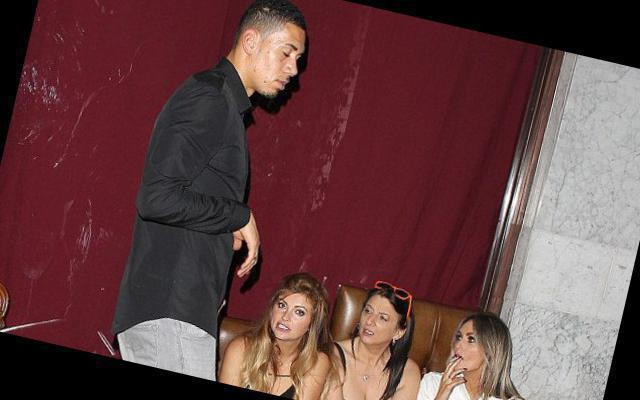Drunk: (272, 21, 304, 100), (271, 294, 313, 341), (358, 296, 395, 346), (450, 326, 484, 372)
